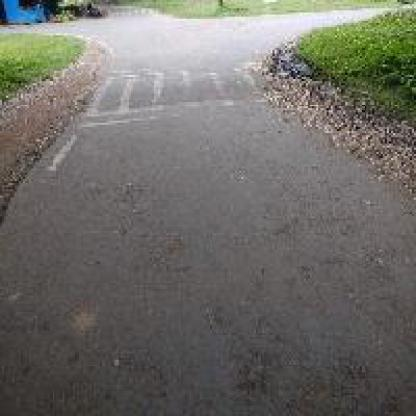Speed Bump: (77, 62, 270, 129)
